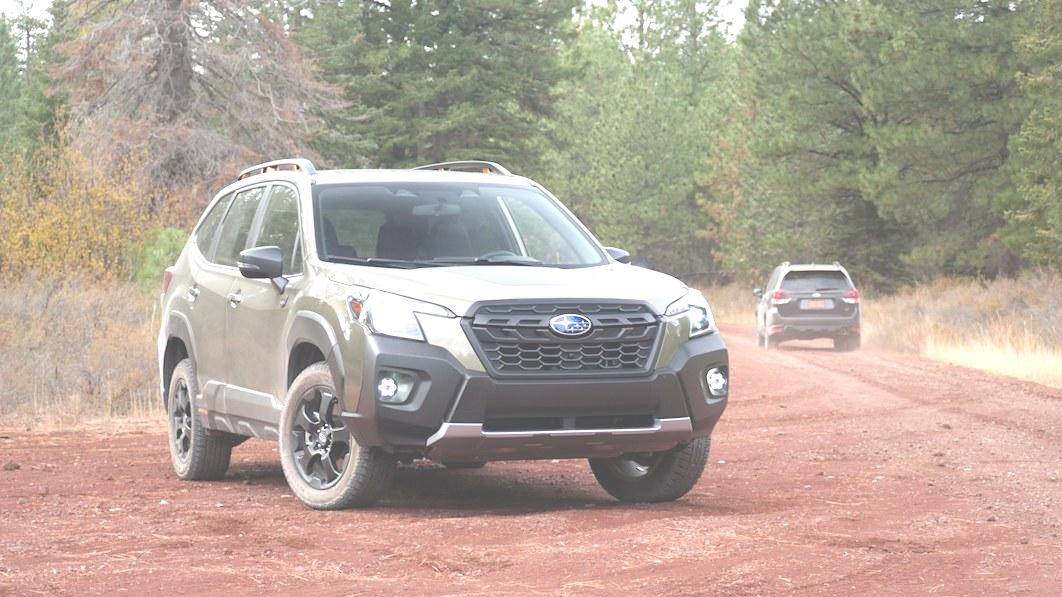subaru: (546, 306, 599, 341)
